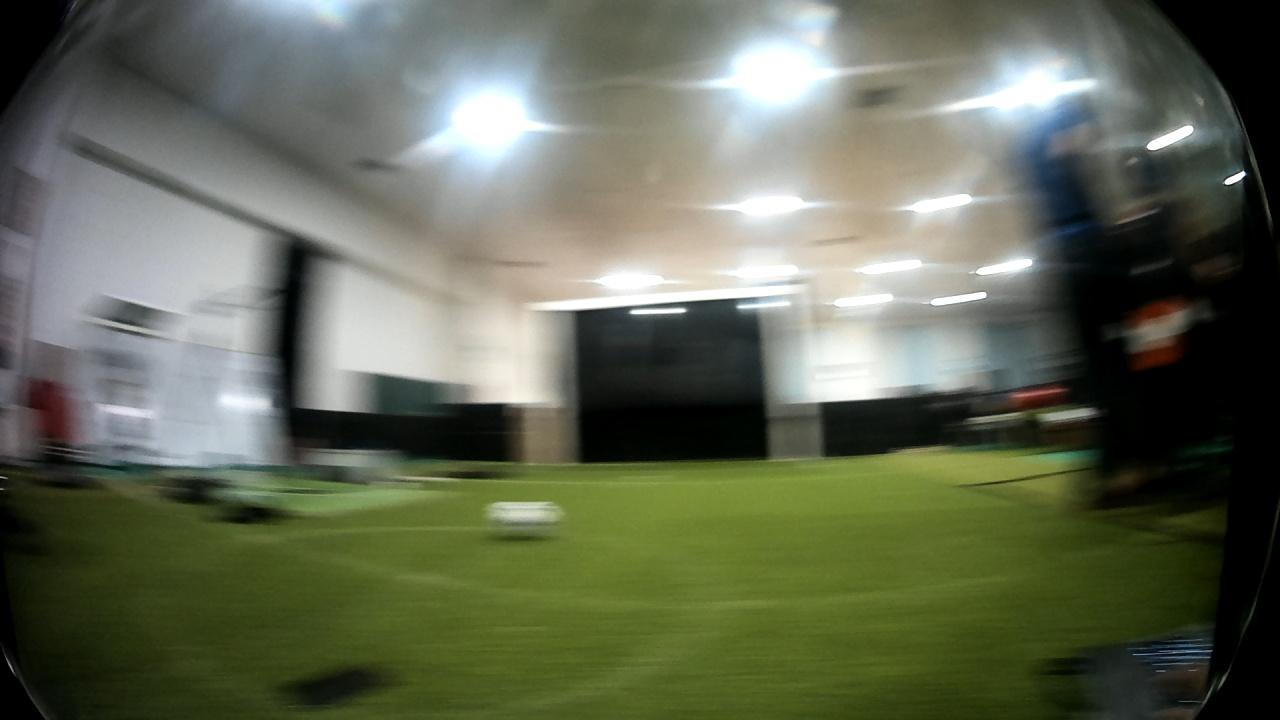ball: (479, 491, 569, 550)
